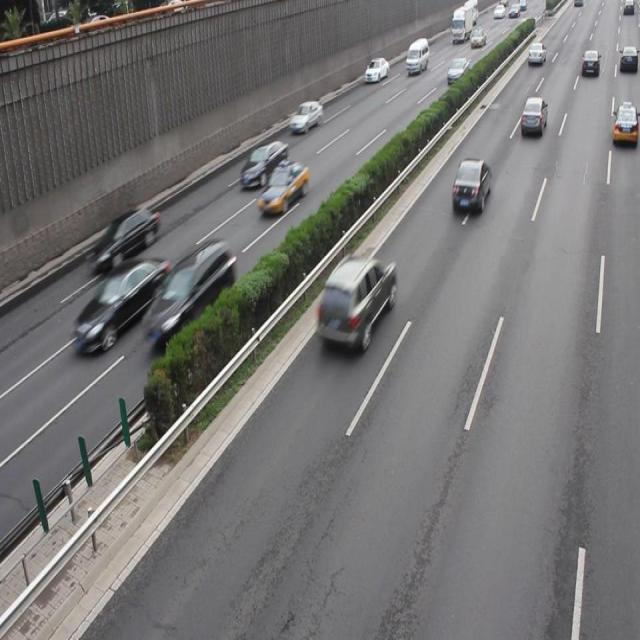car: (141, 237, 235, 343), (71, 256, 167, 353), (314, 251, 397, 352), (88, 205, 160, 273), (257, 158, 308, 214), (240, 138, 288, 190), (452, 157, 489, 214), (610, 101, 640, 145), (288, 99, 321, 134), (518, 96, 546, 136)
